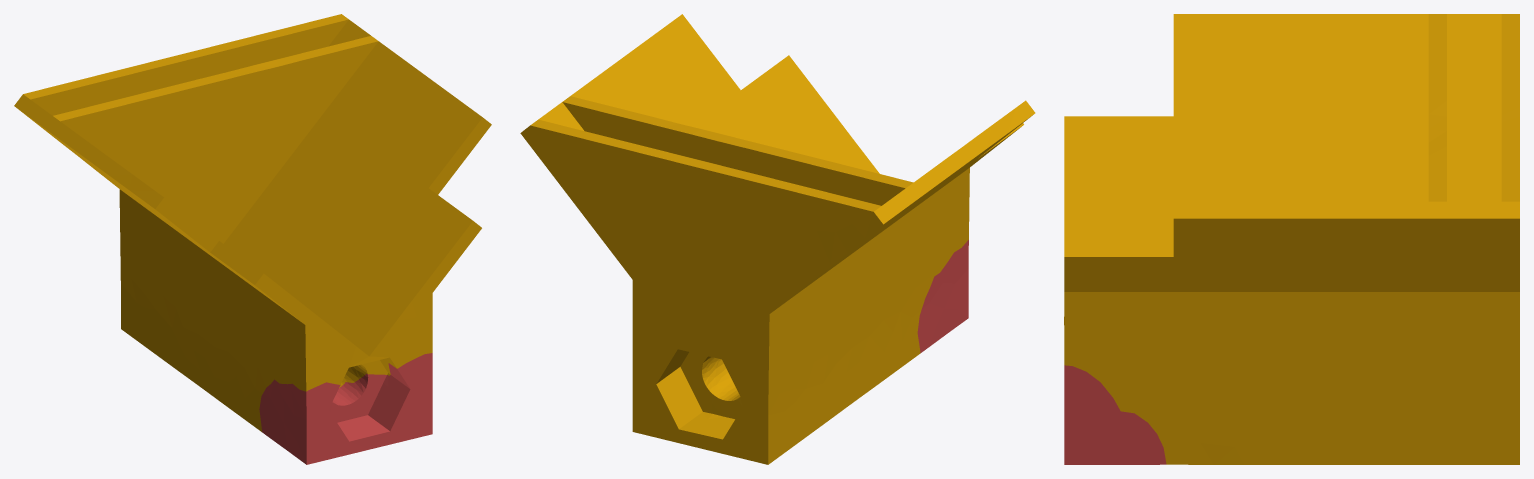
The model's file is fractured_40_2pcs.glb.
The picture shows the model from 3 angles, left to right: view 1: azimuth 30°, elevation 25°; view 2: azimuth 150°, elevation 25°; view 3: azimuth 270°, elevation 25°; orthographic projection. The views are drawn at different scales.
Parts seen in each view (by area): view 1: piece_0.obj, piece_1.obj; view 2: piece_0.obj, piece_1.obj; view 3: piece_0.obj, piece_1.obj.
Boxes of the visible parts, box(x1,y1,x2,y2) form: piece_0.obj: box(14, 14, 491, 431); piece_1.obj: box(259, 353, 432, 464); piece_0.obj: box(520, 14, 1035, 464); piece_1.obj: box(917, 240, 968, 352); piece_0.obj: box(1064, 14, 1519, 464); piece_1.obj: box(1064, 365, 1166, 464).
Bounding box in the file's own units: 1 × 0.7409 × 0.9562.
